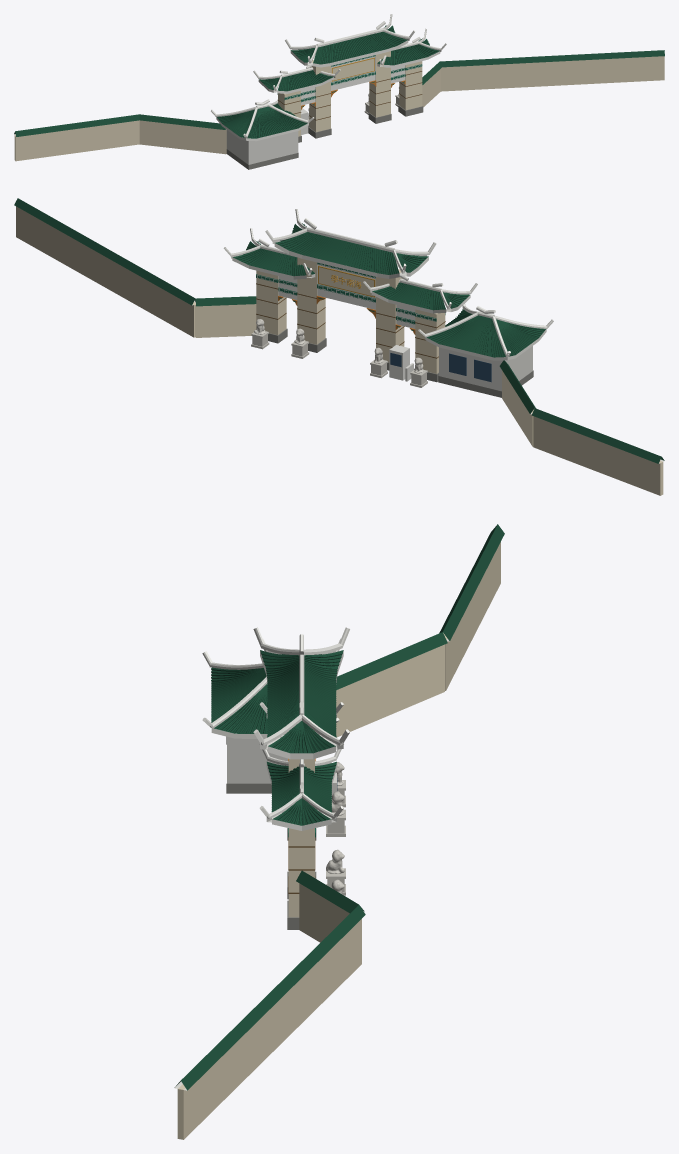
Rendered from gate.glb.
The picture shows the model from 3 angles, top to bottom: view 1: azimuth 30°, elevation 25°; view 2: azimuth 150°, elevation 25°; view 3: azimuth 270°, elevation 25°; orthographic projection. The views are drawn at different scales.
Parts seen in each view (by area): view 1: gate.walls, gate.gate, gate.gatehouse; view 2: gate.gate, gate.walls, gate.gatehouse, gate.lions, gate.booth; view 3: gate.walls, gate.gate, gate.gatehouse, gate.lions.
Boxes of the visible parts, x1,y1,x2,y2 form: gate.walls: [14, 50, 664, 161]; gate.gate: [253, 14, 446, 142]; gate.gatehouse: [211, 99, 313, 169]; gate.gate: [223, 209, 477, 382]; gate.walls: [14, 198, 664, 495]; gate.gatehouse: [418, 304, 553, 397]; gate.lions: [251, 319, 427, 387]; gate.booth: [389, 345, 413, 381]; gate.walls: [174, 524, 504, 1139]; gate.gate: [253, 627, 349, 929]; gate.gatehouse: [202, 651, 339, 793]; gate.lions: [326, 762, 345, 895].
Bounding box in the file's own units: 60 × 9.74 × 15.03.
